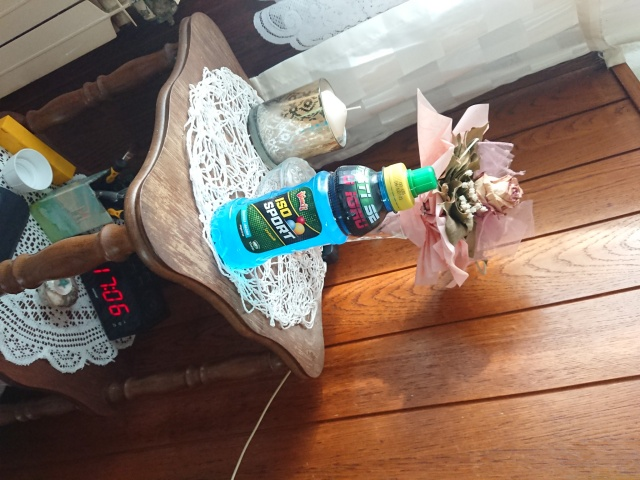Vindi Iso Sport Forest Strawberries 500mL: (208, 159, 441, 271)
